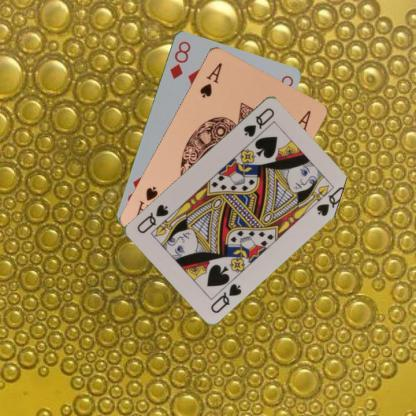8d: (167, 38, 192, 80)
As: (197, 59, 224, 99)
Qs: (208, 280, 243, 314), (241, 105, 276, 138)
